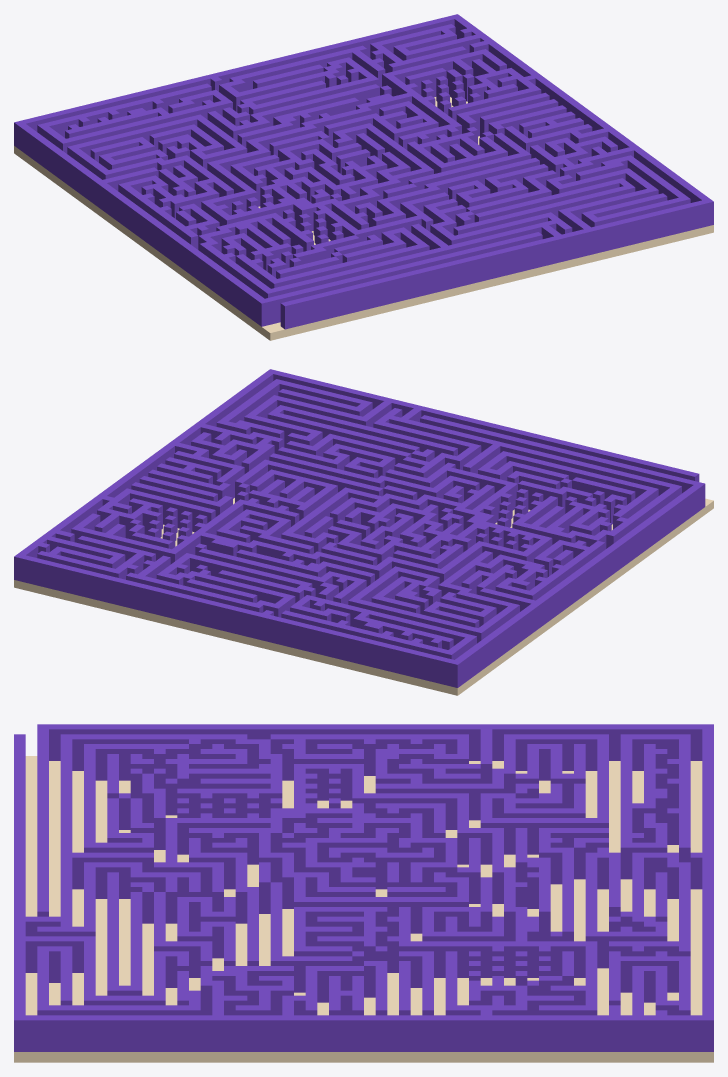
File: Laberinto.fbx
The picture shows the model from 3 angles, top to bottom: view 1: azimuth 30°, elevation 25°; view 2: azimuth 150°, elevation 25°; view 3: azimuth 270°, elevation 25°; orthographic projection. The views are drawn at different scales.
Visible parts, largest first — view 1: Laberinto; view 2: Laberinto; view 3: Laberinto.
Boxes of the visible parts, <box> form: Laberinto: <box>14,14,713,340</box>; Laberinto: <box>14,369,713,695</box>; Laberinto: <box>14,724,713,1062</box>.
Size of the model in its own units: 12000 by 800 by 12000.
